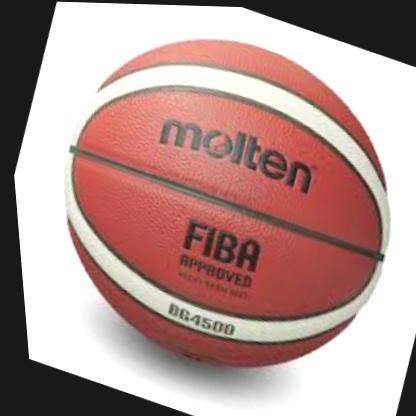basketball: (7, 0, 416, 412)
